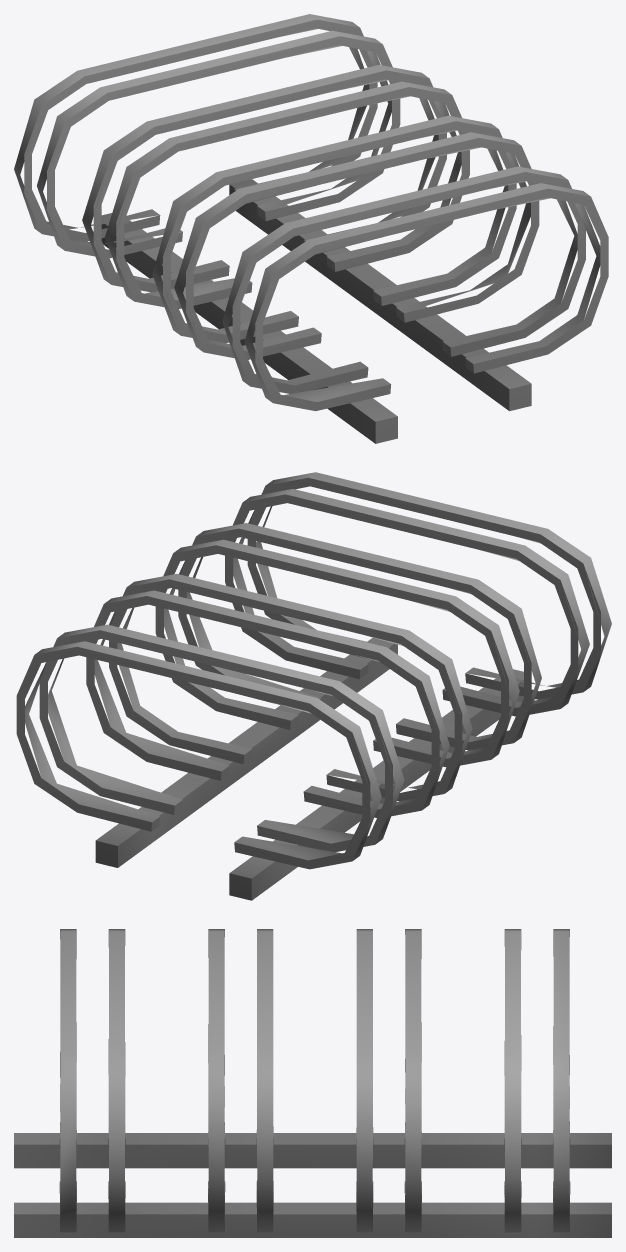
The model's file is bikerack.glb.
3 views of the same model, one above another, from view 1: azimuth 30°, elevation 25°; view 2: azimuth 150°, elevation 25°; view 3: azimuth 270°, elevation 25° (orthographic). The views are drawn at different scales.
Parts seen in each view (by area): view 1: bike_rack; view 2: bike_rack; view 3: bike_rack.
Boxes of the visible parts, x1,y1,x2,y2 form: bike_rack: (14,14,608,443); bike_rack: (16,472,611,900); bike_rack: (14,929,611,1237).
Bounding box in the file's own units: 0.8201 × 0.4163 × 1.1.
Materials: 1 (1 with a texture image).
